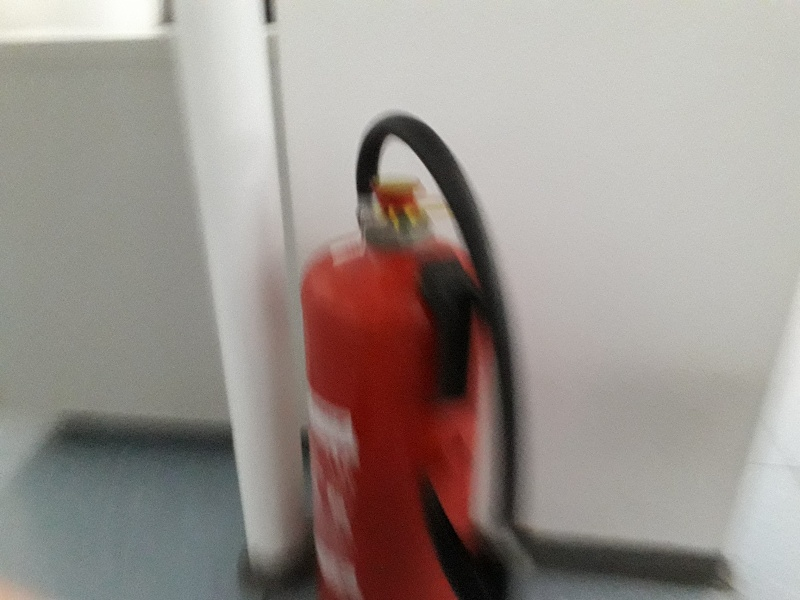vataparat: (302, 115, 520, 600)
